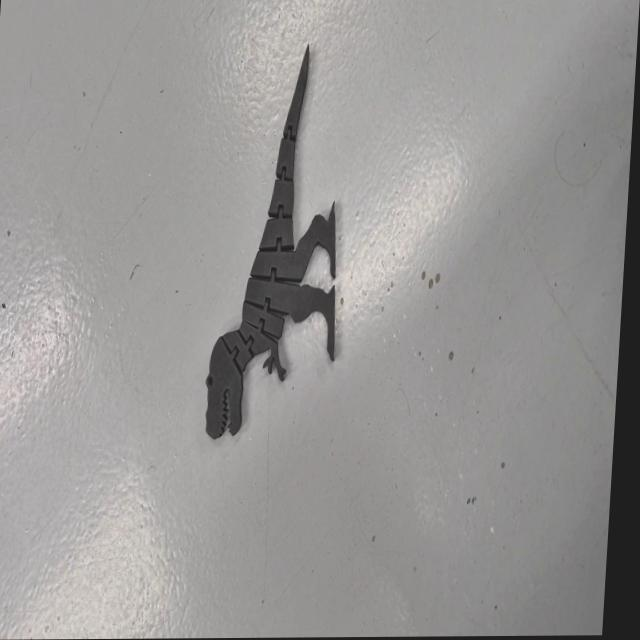dino: (201, 42, 352, 441)
